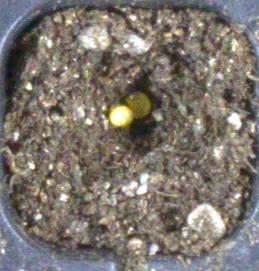pepper seed: (48, 30, 199, 151), (42, 41, 177, 169)
